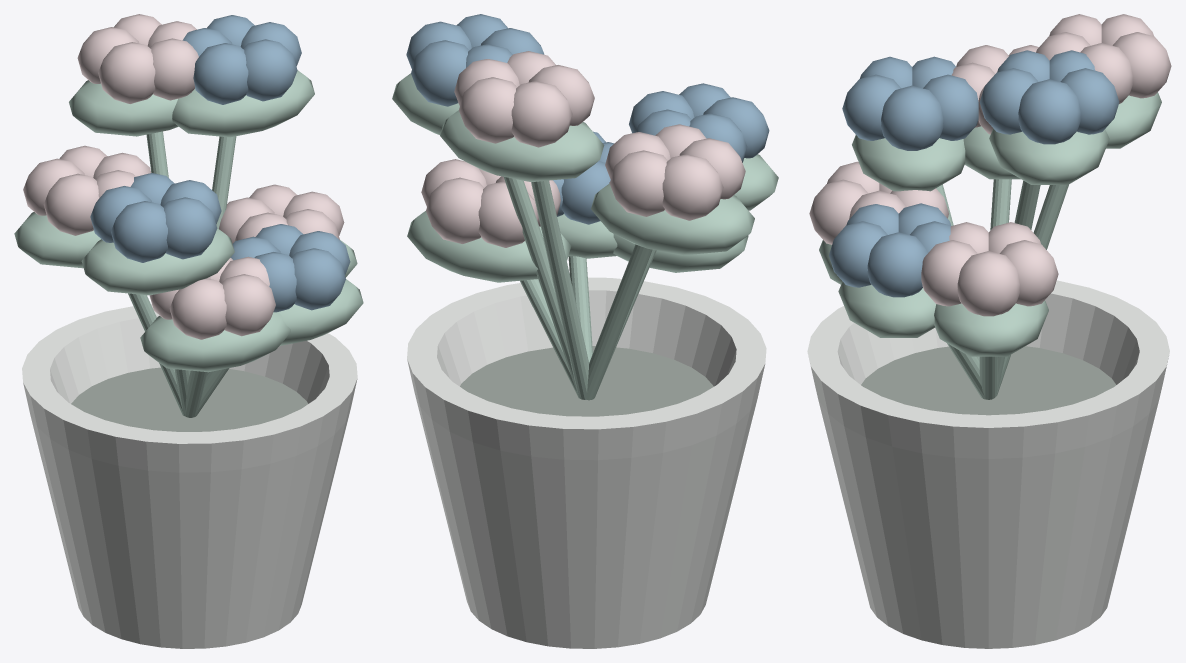
File: hydrangea_pot.glb
3 renders of one model, left to right at view 1: azimuth 30°, elevation 25°; view 2: azimuth 150°, elevation 25°; view 3: azimuth 270°, elevation 25°, orthographic. The views are drawn at different scales.
Parts seen in each view (by area): view 1: decor_d8dcd8_matte, decor_729986_matte, decor_c5a5a8_matte, decor_476a8a_matte, decor_58625a_matte; view 2: decor_d8dcd8_matte, decor_729986_matte, decor_c5a5a8_matte, decor_476a8a_matte, decor_58625a_matte; view 3: decor_d8dcd8_matte, decor_476a8a_matte, decor_729986_matte, decor_c5a5a8_matte, decor_58625a_matte.
Part boxes in pixels (<box>): decor_d8dcd8_matte: <box>22,304,357,648</box>; decor_729986_matte: <box>14,70,363,417</box>; decor_c5a5a8_matte: <box>23,14,344,339</box>; decor_476a8a_matte: <box>90,15,350,312</box>; decor_58625a_matte: <box>71,367,307,431</box>; decor_d8dcd8_matte: <box>407,277,766,648</box>; decor_729986_matte: <box>392,73,778,400</box>; decor_c5a5a8_matte: <box>421,51,745,247</box>; decor_476a8a_matte: <box>406,14,769,224</box>; decor_58625a_matte: <box>460,346,713,416</box>; decor_d8dcd8_matte: <box>807,280,1169,648</box>; decor_476a8a_matte: <box>829,50,1119,297</box>; decor_729986_matte: <box>819,92,1161,399</box>; decor_c5a5a8_matte: <box>809,14,1171,316</box>; decor_58625a_matte: <box>861,346,1116,415</box>.
Bounding box in the file's own units: 0.6721 × 1.04 × 0.6025.
